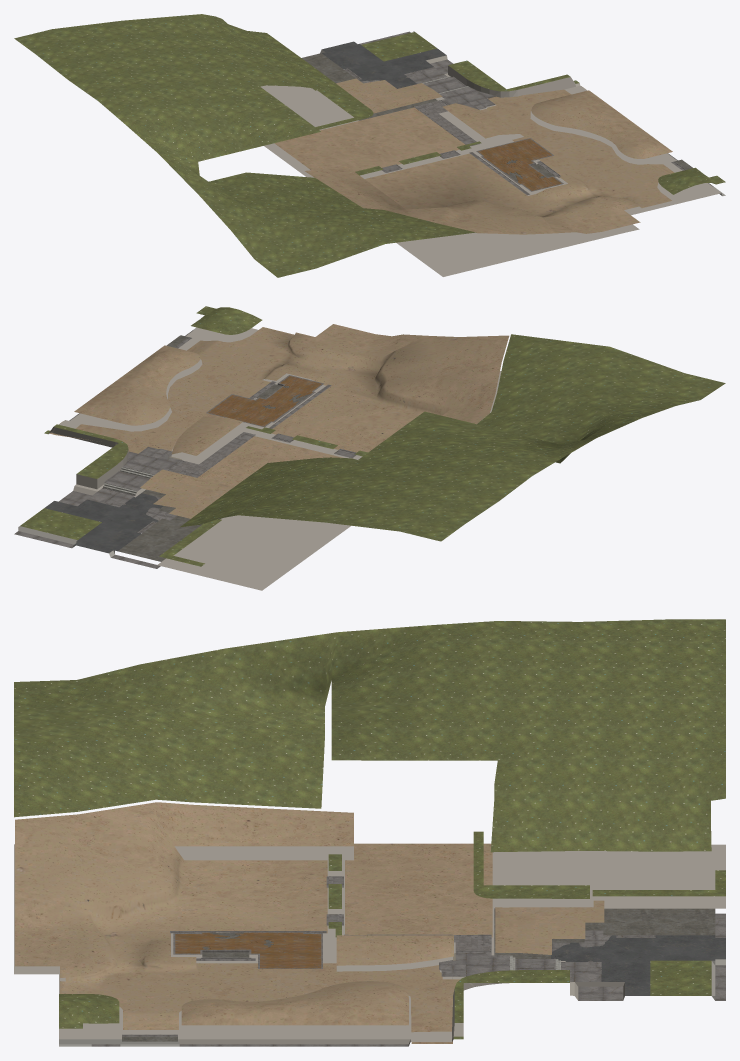
File: Archery_Base.fbx
The picture shows the model from 3 angles, top to bottom: view 1: azimuth 30°, elevation 25°; view 2: azimuth 150°, elevation 25°; view 3: azimuth 270°, elevation 25°; orthographic projection. The views are drawn at different scales.
Parts seen in each view (by area): view 1: Bg_Archery_STR_Base_13; view 2: Bg_Archery_STR_Base_13; view 3: Bg_Archery_STR_Base_13.
Part boxes in pixels (x1,y1,x2,y2): Bg_Archery_STR_Base_13: (14, 14, 725, 277); Bg_Archery_STR_Base_13: (14, 306, 725, 590); Bg_Archery_STR_Base_13: (14, 619, 725, 1046).
Size of the model in its own units: 8061 by 1481 by 7900.
Materials: 8 (8 with a texture image).
